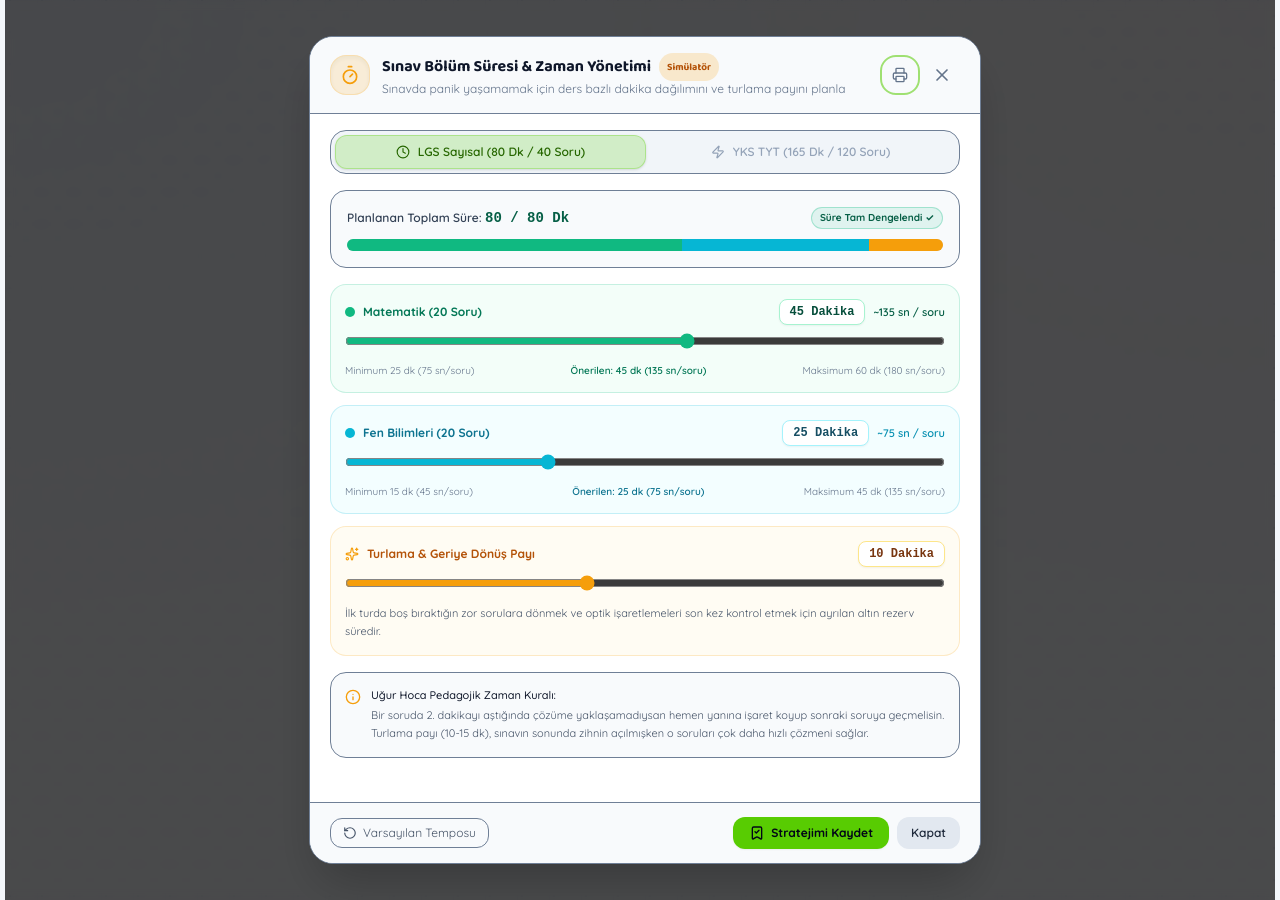
it: ExamPacingStrategyModal › switches to YKS TYT tab and shows 165 minutes sections
Click the button "YKS TYT (165 Dk / 120 Soru)": (800, 152) 646,135 -> 955,169
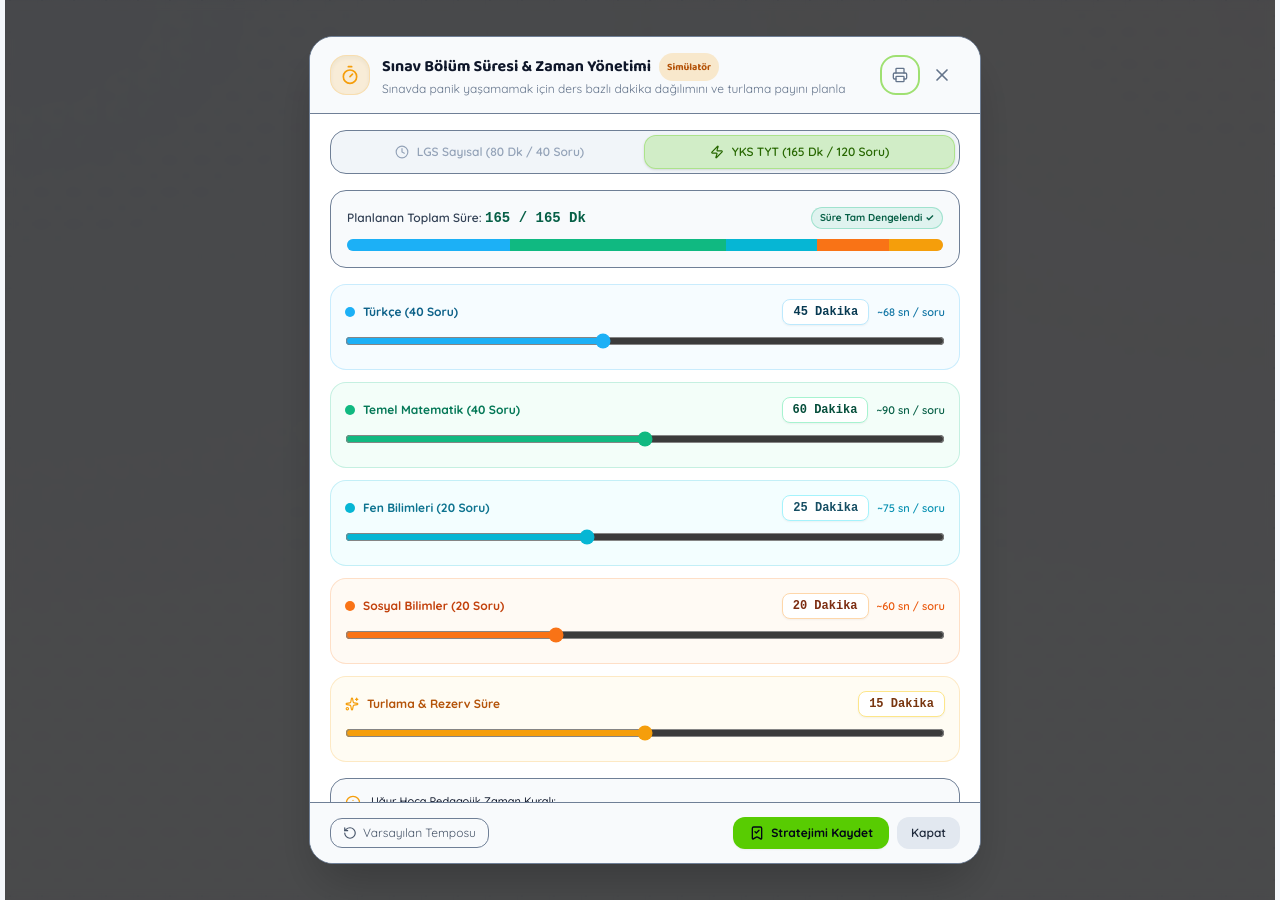
Check: the text "Türkçe (40 Soru)" is shown, box 363,304 -> 458,320
Check: the text "Temel Matematik (40 Soru)" is shown, box 363,402 -> 520,418
Check: the text "Sosyal Bilimler (20 Soru)" is shown, box 363,598 -> 504,614
